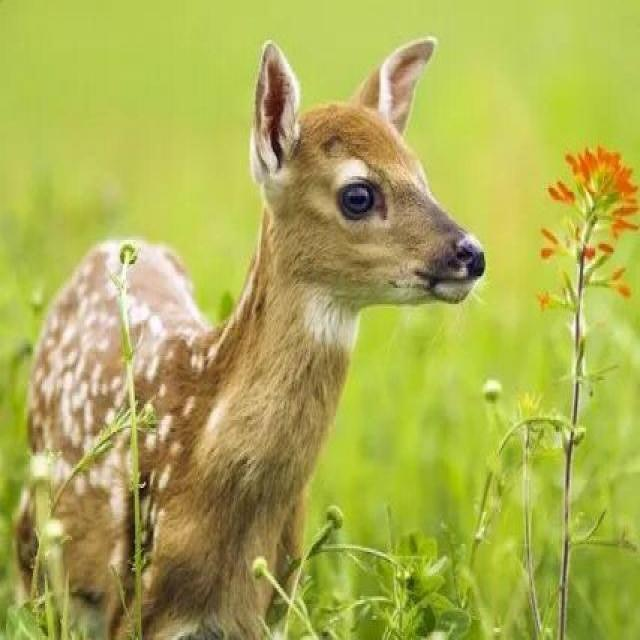deer: (19, 23, 492, 622)
